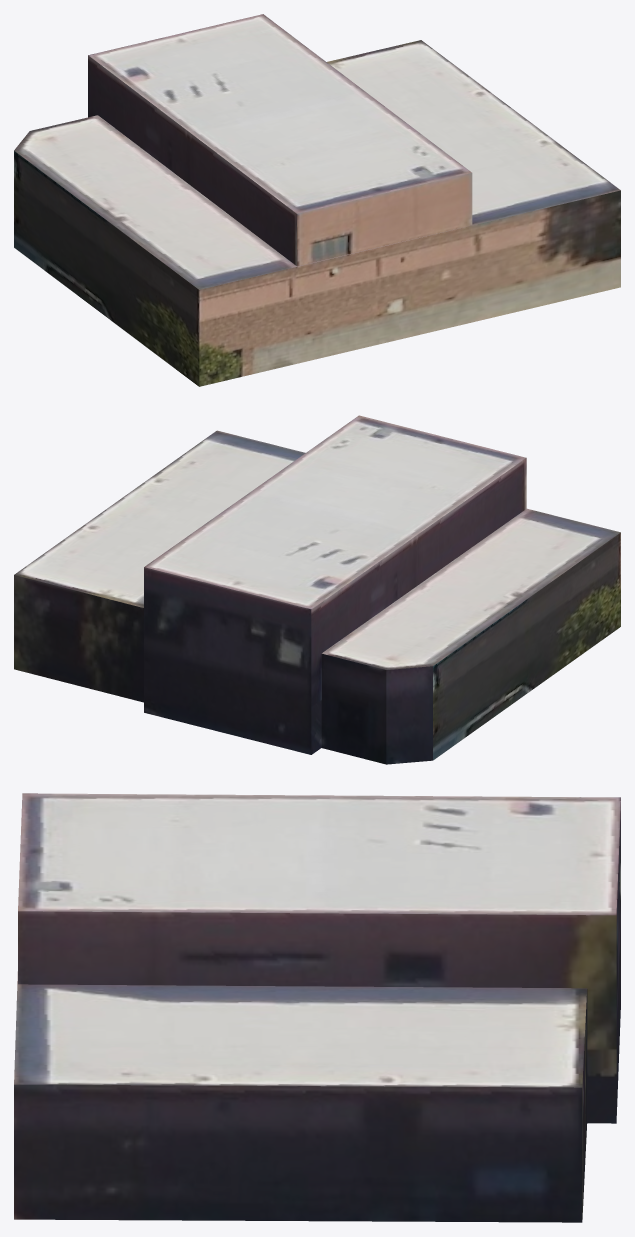
The model's file is AZ_LDS_Family_History_Center__Mesa__AZ__USA.fbx.
3 renders of one model, top to bottom at view 1: azimuth 30°, elevation 25°; view 2: azimuth 150°, elevation 25°; view 3: azimuth 270°, elevation 25°, orthographic. The views are drawn at different scales.
Visible parts, largest first — view 1: ext1, box2; view 2: ext1, box2; view 3: ext1, box2.
Part boxes in pixels (left/top/right/bottom): ext1: left=14, top=40, right=620, bottom=386; box2: left=88, top=14, right=472, bottom=266; ext1: left=14, top=430, right=620, bottom=764; box2: left=144, top=415, right=526, bottom=754; ext1: left=14, top=971, right=587, bottom=1222; box2: left=18, top=793, right=620, bottom=1123.
Bounding box in the file's own units: 1121 × 379 × 1001.
